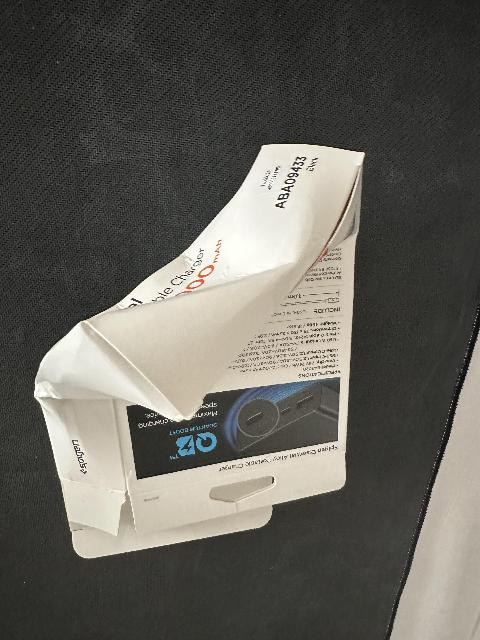Kagit: (33, 133, 354, 560)
